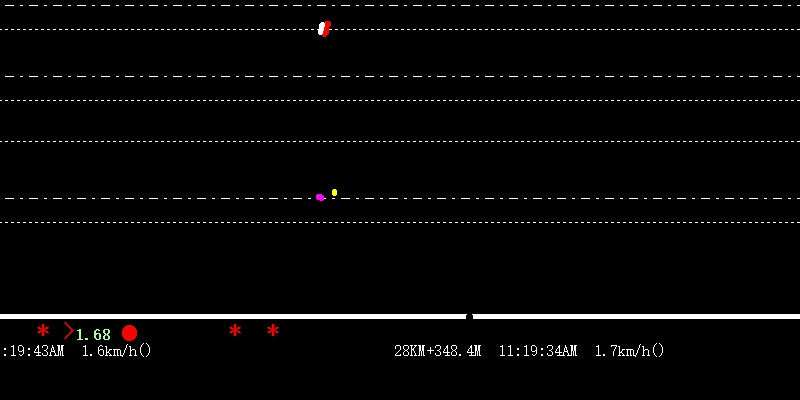circle: (119, 322, 138, 342)
face_s: (316, 19, 331, 39)
star: (264, 321, 281, 337), (228, 320, 242, 339), (35, 320, 49, 338)
